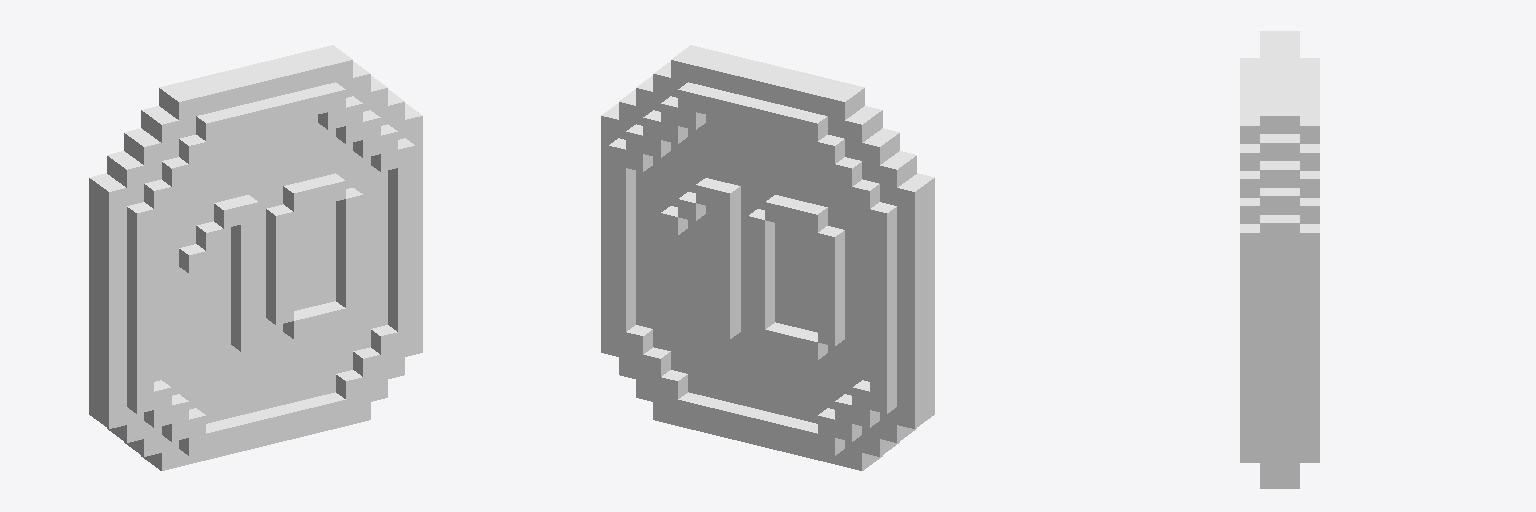
The model's file is money.obj.
The picture shows the model from 3 angles: view 1: azimuth 30°, elevation 25°; view 2: azimuth 150°, elevation 25°; view 3: azimuth 270°, elevation 25°; orthographic projection.
Visible parts, largest first — view 1: object 1; view 2: object 1; view 3: object 1.
Part boxes in pixels (x1,y1,x2,y2): object 1: (89,45,422,470); object 1: (601,45,934,470); object 1: (1240,31,1319,488).
Size of the model in its own units: 1.8 by 2 by 0.4.